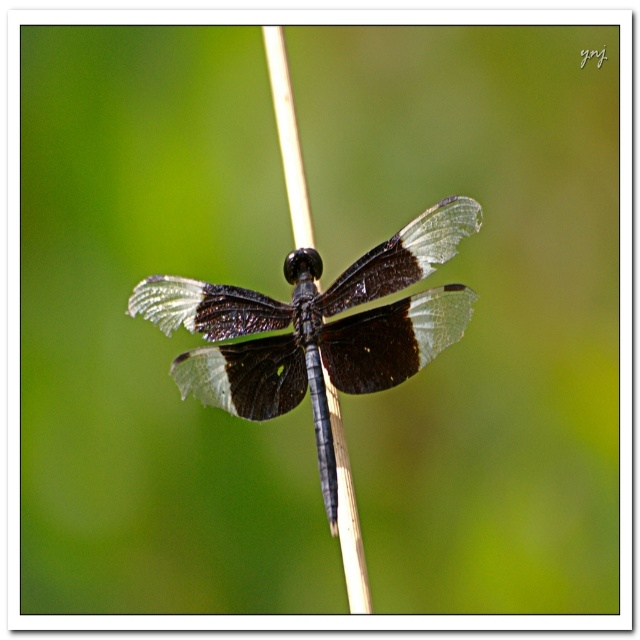Butterfly: (123, 190, 488, 542)
